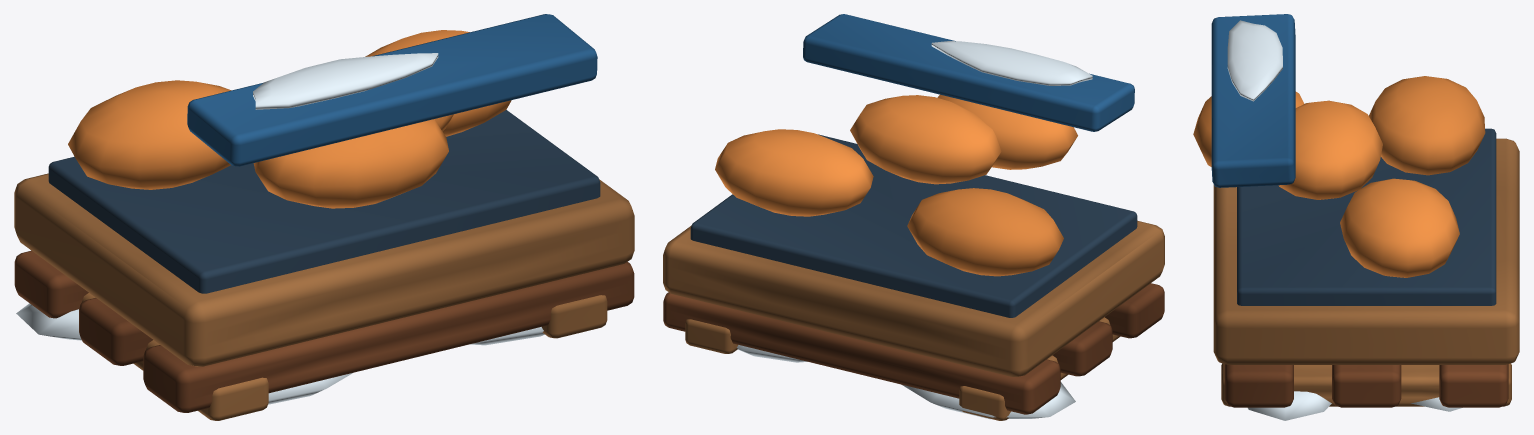
Rendered from cooked_food_stack.glb.
3 views of the same model, side by side, from view 1: azimuth 30°, elevation 25°; view 2: azimuth 150°, elevation 25°; view 3: azimuth 270°, elevation 25° (orthographic). The views are drawn at different scales.
Parts seen in each view (by area): view 1: cooked_food_stack; view 2: cooked_food_stack; view 3: cooked_food_stack.
Part boxes in pixels (box(x1,y1,x2,y2)): cooked_food_stack: box(14, 14, 634, 420); cooked_food_stack: box(663, 14, 1164, 420); cooked_food_stack: box(1193, 14, 1519, 420).
Bounding box in the file's own units: 1.4 × 0.886 × 0.9812.
